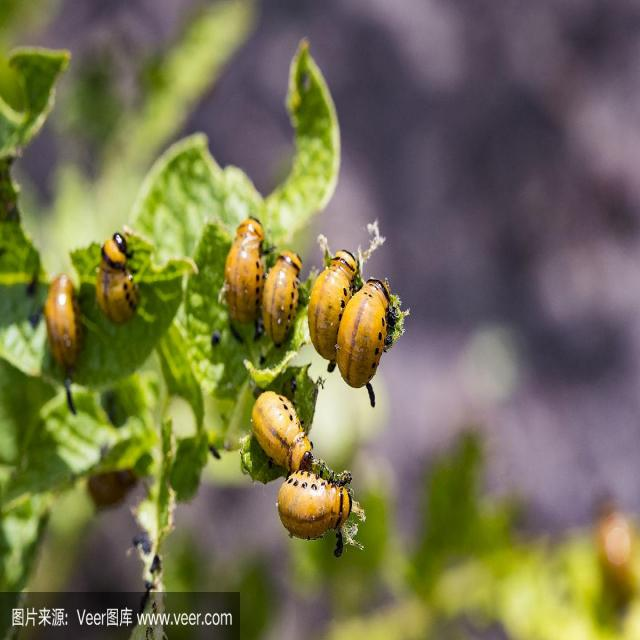ShuCaiHuaBanChong-Larva-: (265, 470, 369, 550), (338, 262, 394, 394), (247, 379, 321, 471), (220, 202, 269, 336), (32, 266, 91, 374), (312, 241, 359, 365), (260, 247, 305, 353), (97, 270, 154, 325)
